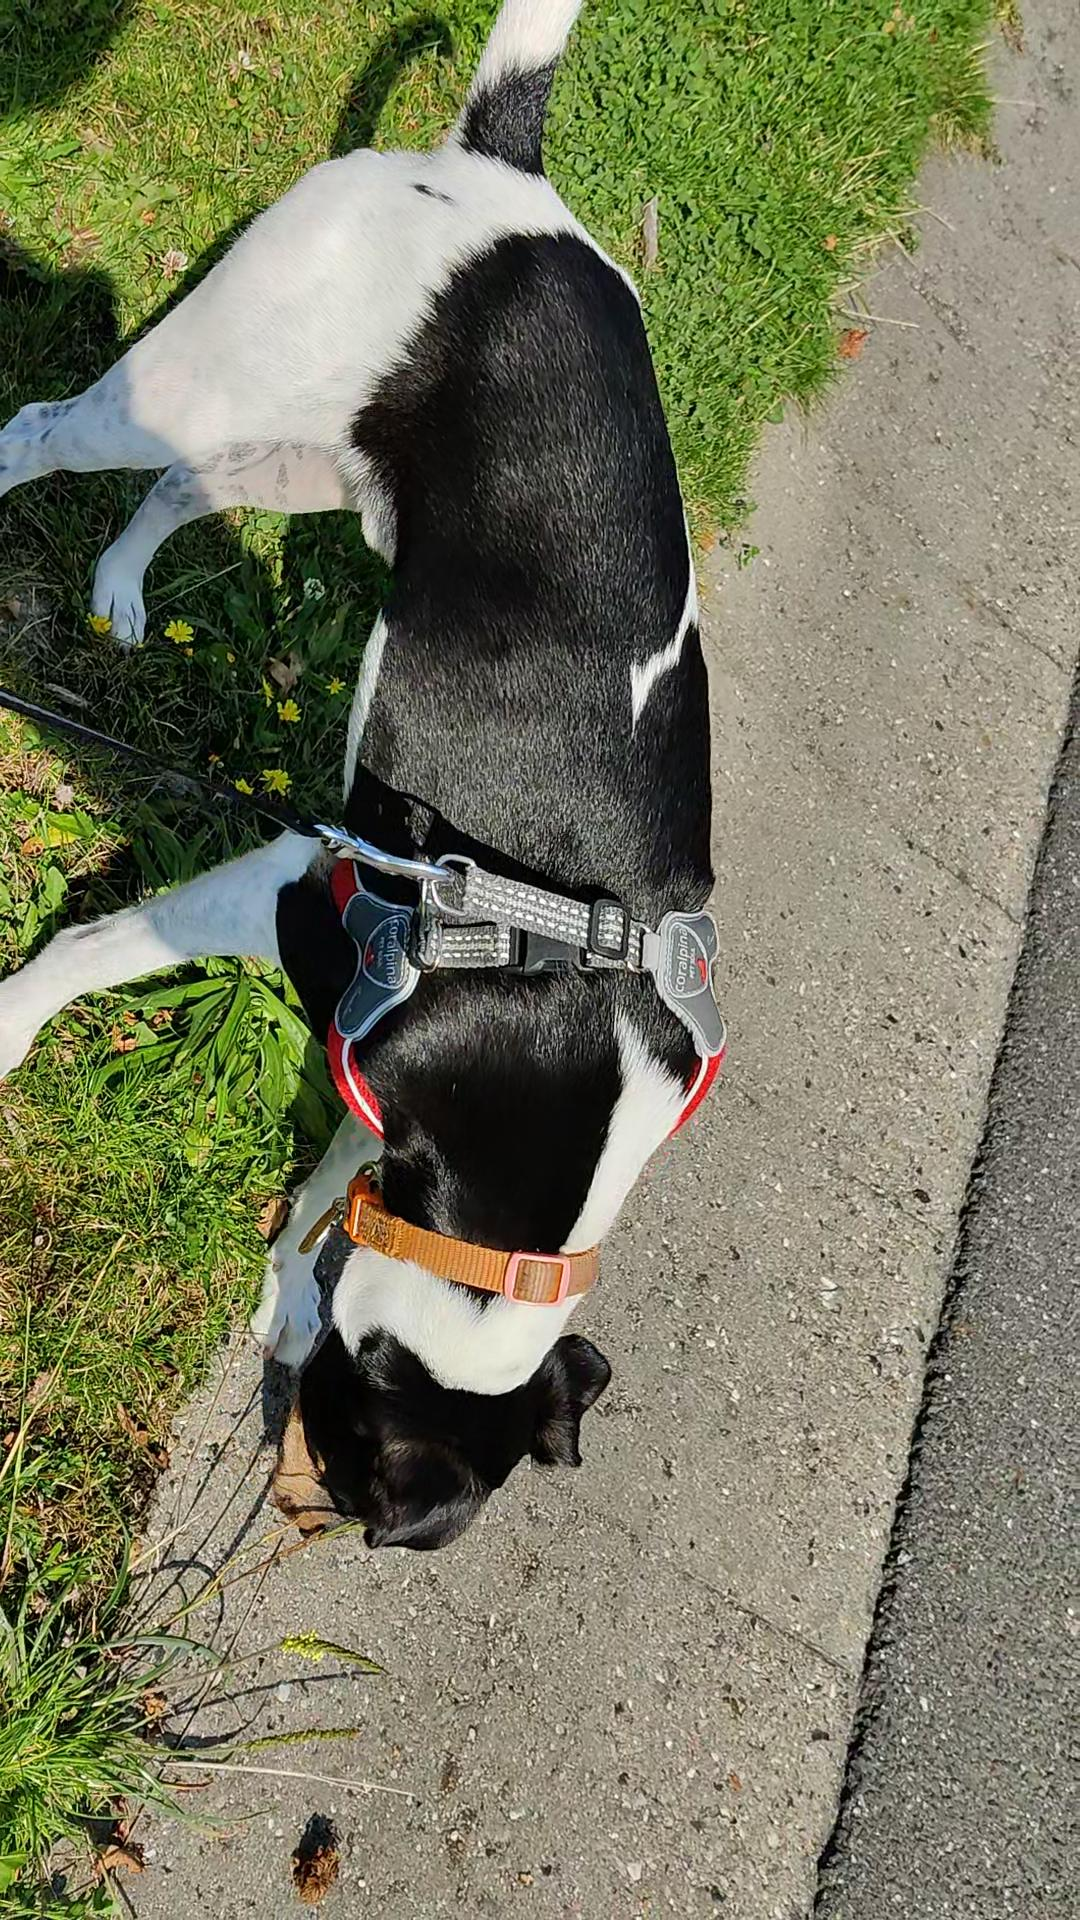Dog: (0, 0, 738, 1559)
